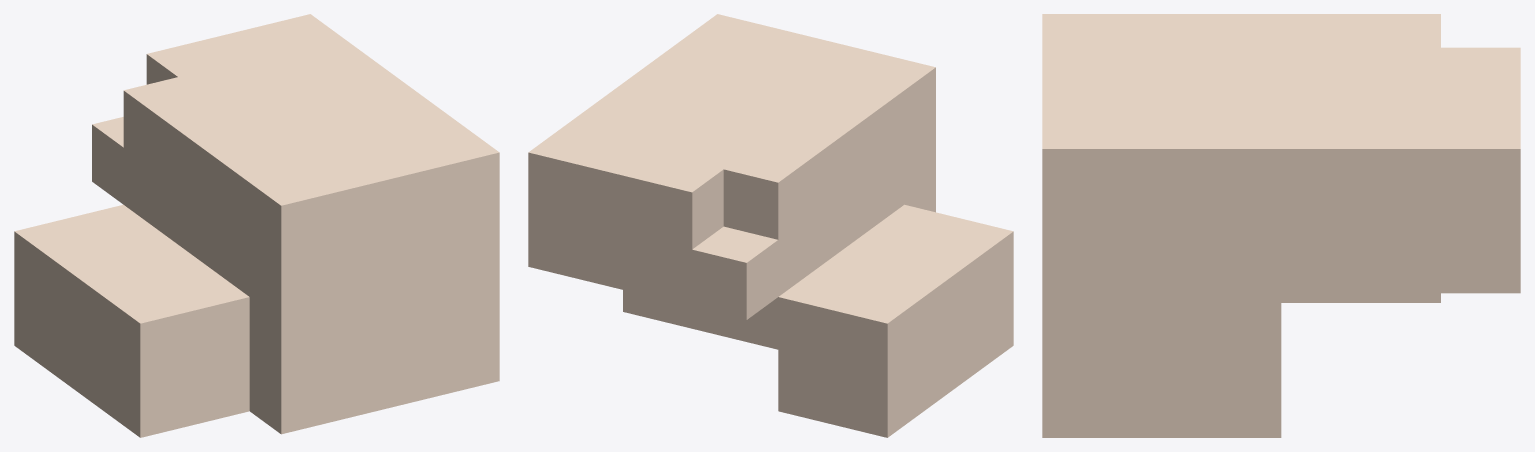
Rendered from kiritan-0-LeftArm_2.obj.
3 views of the same model, side by side, from view 1: azimuth 30°, elevation 25°; view 2: azimuth 150°, elevation 25°; view 3: azimuth 270°, elevation 25° (orthographic). The views are drawn at different scales.
Visible parts, largest first — view 1: LeftArm_2; view 2: LeftArm_2; view 3: LeftArm_2.
Part boxes in pixels (left/top/right/bottom): LeftArm_2: left=14, top=14, right=499, bottom=437; LeftArm_2: left=528, top=14, right=1013, bottom=437; LeftArm_2: left=1042, top=14, right=1520, bottom=437.
Size of the model in its own units: 0.6 by 0.4 by 0.6.
Materials: 1 (1 with a texture image).
